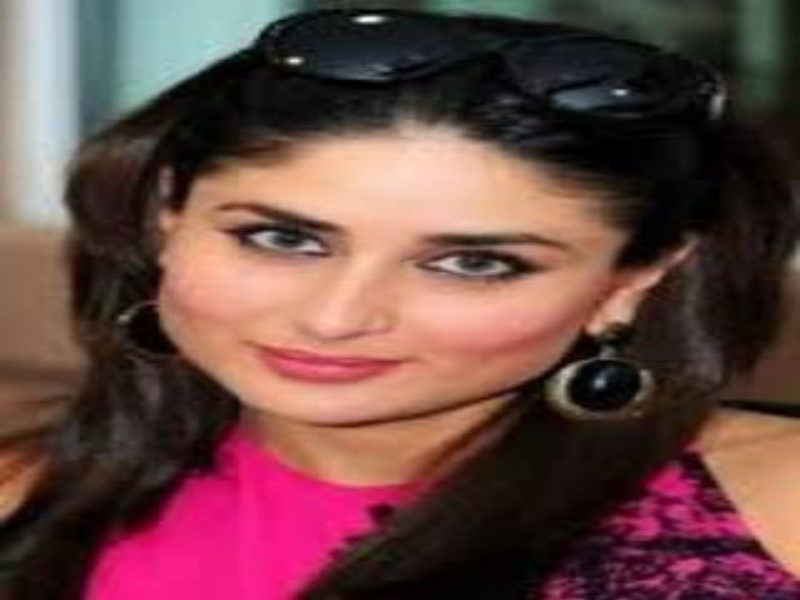TsisyArotava: (119, 31, 666, 471)
